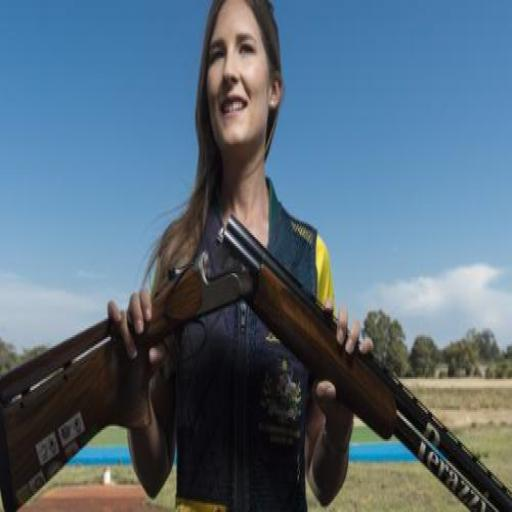shooting: (106, 2, 375, 510)
